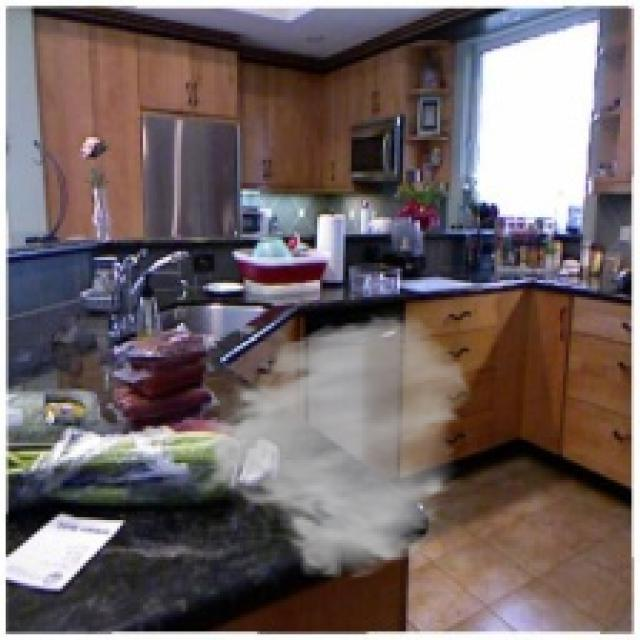Smoke: (192, 312, 474, 582)
